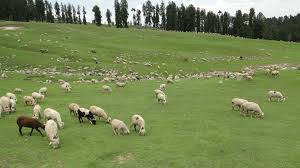sheep: (39, 119, 62, 153), (112, 119, 140, 144), (126, 111, 149, 137), (16, 117, 46, 136), (43, 106, 67, 128), (268, 87, 291, 108), (243, 98, 265, 119), (74, 108, 96, 129), (230, 97, 252, 115), (2, 94, 20, 114), (153, 86, 168, 108), (65, 98, 81, 117), (30, 100, 45, 119), (29, 87, 46, 103), (93, 105, 108, 123), (155, 78, 170, 94), (114, 79, 132, 92), (23, 92, 39, 106), (58, 80, 73, 94), (37, 84, 50, 96), (245, 74, 258, 85), (102, 83, 112, 95), (270, 64, 278, 79)
